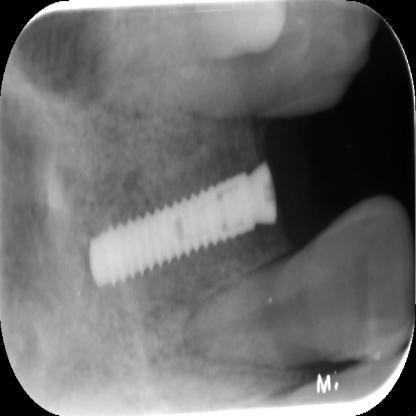ITI: (88, 168, 257, 294)
